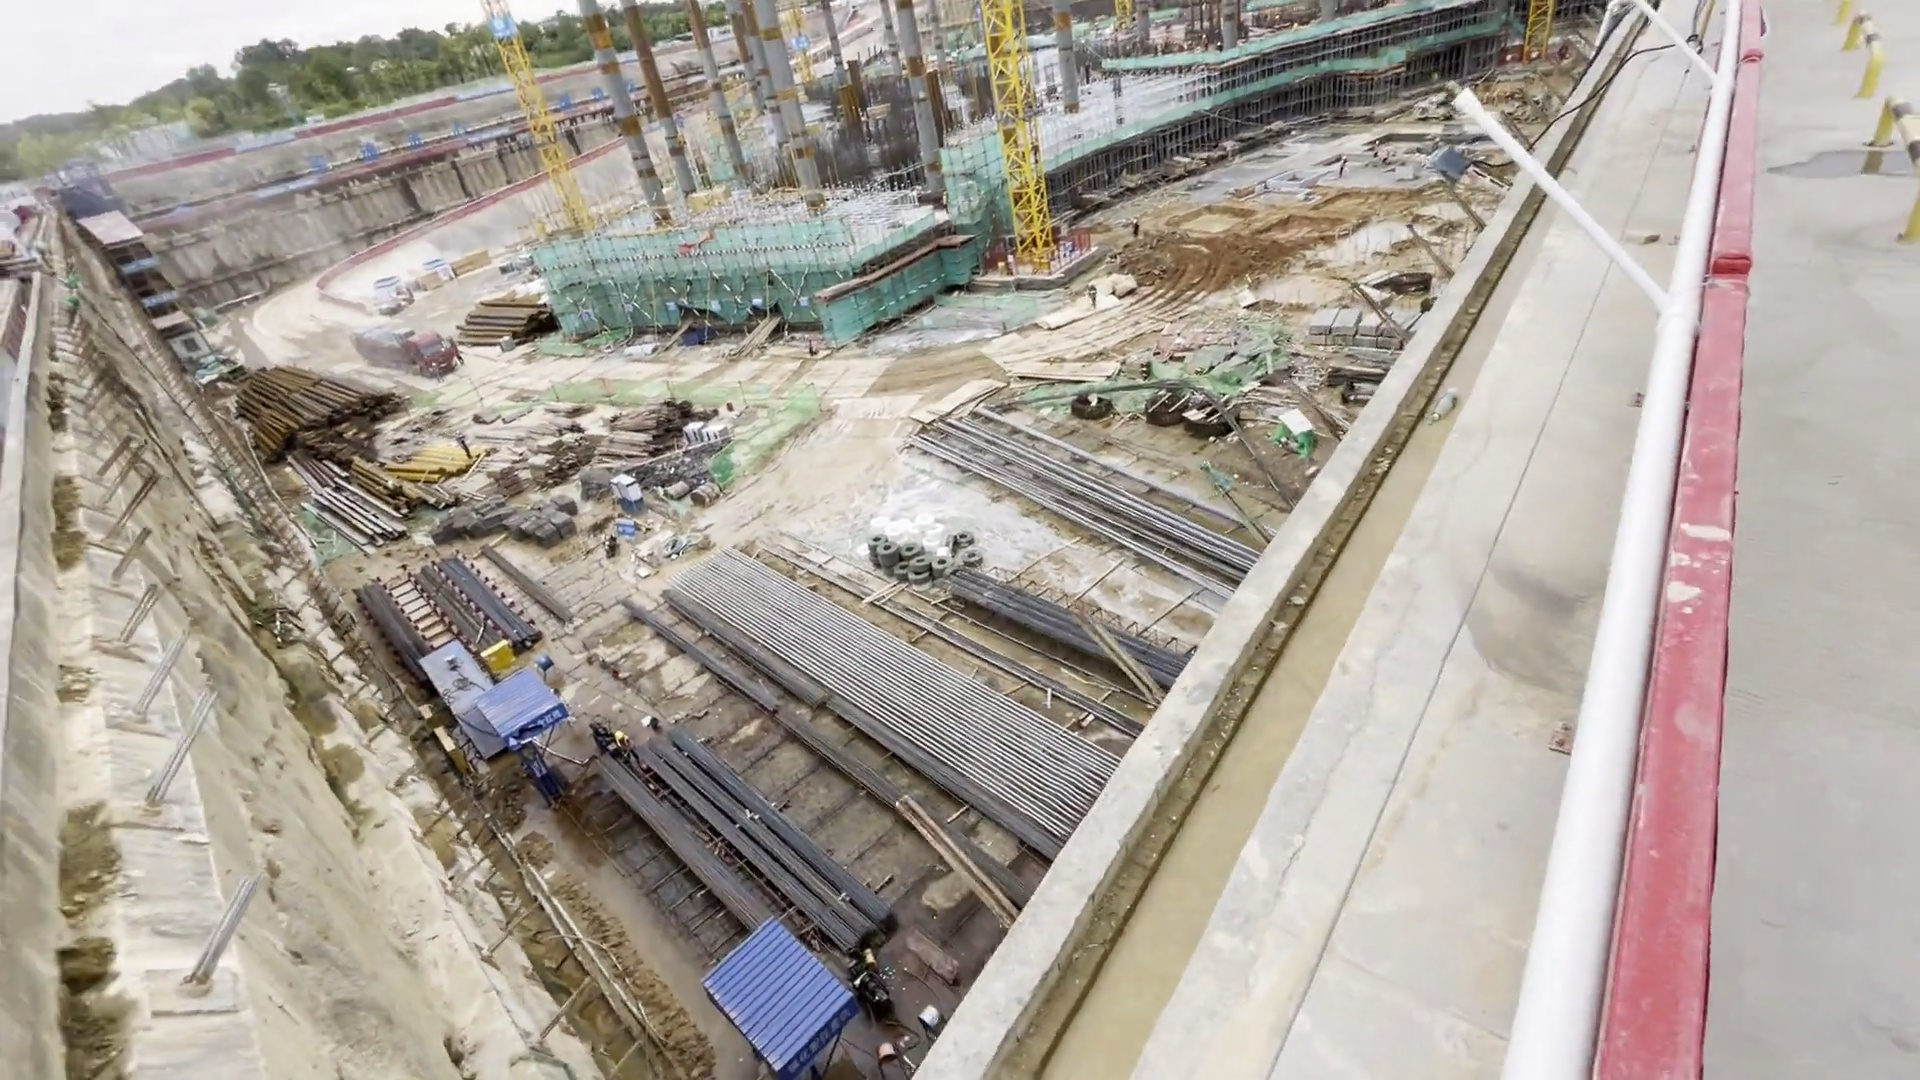board: (924, 362, 1128, 392)
brick: (1318, 309, 1413, 369), (686, 419, 730, 448)
ebox: (478, 636, 522, 673), (1029, 256, 1054, 282)
fence: (1528, 45, 1773, 1080)
helmet: (612, 729, 625, 740)
hopper: (679, 327, 718, 344)
person: (615, 729, 639, 764), (1082, 281, 1107, 312), (447, 337, 465, 365), (1339, 154, 1354, 181), (1130, 218, 1142, 240)
rebar: (681, 760, 887, 952), (970, 443, 1239, 574), (959, 568, 1201, 700), (670, 605, 846, 757), (362, 577, 529, 643)
slogan: (309, 112, 465, 174), (518, 709, 560, 738)
wood: (612, 402, 673, 459)
